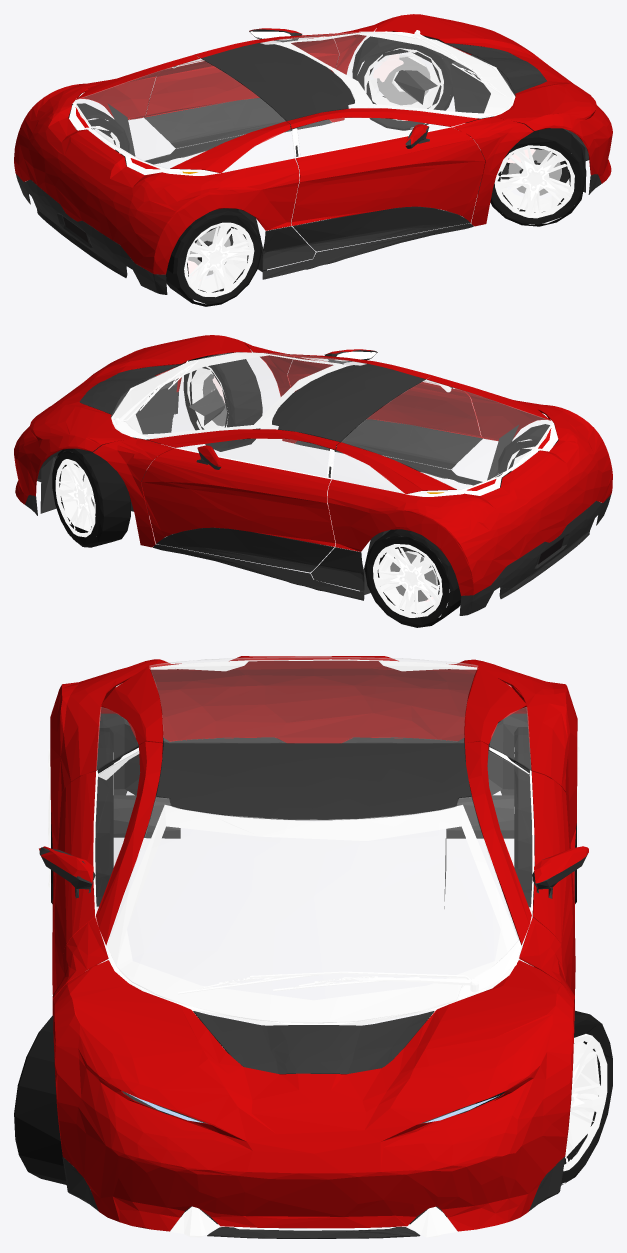
Rendered from concept-lod.glb.
3 renders of one model, top to bottom at view 1: azimuth 30°, elevation 25°; view 2: azimuth 150°, elevation 25°; view 3: azimuth 270°, elevation 25°, orthographic. The views are drawn at different scales.
Parts seen in each view (by area): view 1: object 6, object 2, object 5, WHEEL| (×4), object 3, WHEEL|WheelFrontRRim, object 1, WHEEL|WheelRearRRim, WHEEL|WheelFrontLRim, WHEEL|WheelFrontLBrakeDisc, WHEEL|WheelFrontRBrakeDisc, CALIPER|WheelFrontLBrakePad; view 2: object 6, object 2, object 5, WHEEL| (×4), object 3, object 1, WHEEL|WheelRearLRim, WHEEL|WheelFrontLRim, WHEEL|WheelFrontRRim, WHEEL|WheelRearLBrakeDisc, WHEEL|WheelFrontRBrakeDisc; view 3: object 6, object 2, object 5, object 3, WHEEL| (×4), object 1, WHEEL|WheelFrontLRim.
Boxes of the visible parts, left/top/right/bottom form: object 6: left=14, top=14, right=612, bottom=274; object 2: left=75, top=32, right=511, bottom=171; object 5: left=16, top=29, right=601, bottom=294; WHEEL| (×4): left=68, top=31, right=586, bottom=306; object 3: left=69, top=30, right=515, bottom=175; WHEEL|WheelFrontRRim: left=494, top=145, right=574, bottom=218; object 1: left=107, top=43, right=588, bottom=271; WHEEL|WheelRearRRim: left=184, top=222, right=254, bottom=297; WHEEL|WheelFrontLRim: left=364, top=48, right=443, bottom=120; WHEEL|WheelFrontLBrakeDisc: left=377, top=55, right=430, bottom=105; WHEEL|WheelFrontRBrakeDisc: left=508, top=149, right=561, bottom=195; CALIPER|WheelFrontLBrakePad: left=373, top=53, right=403, bottom=82; object 6: left=14, top=335, right=612, bottom=595; object 2: left=114, top=352, right=551, bottom=492; object 5: left=25, top=350, right=611, bottom=615; WHEEL| (×4): left=52, top=352, right=558, bottom=627; object 3: left=111, top=352, right=558, bottom=496; object 1: left=37, top=362, right=519, bottom=594; WHEEL|WheelRearLRim: left=373, top=544, right=442, bottom=617; WHEEL|WheelFrontLRim: left=55, top=459, right=95, bottom=537; WHEEL|WheelFrontRRim: left=187, top=366, right=228, bottom=429; WHEEL|WheelRearLBrakeDisc: left=390, top=551, right=437, bottom=601; WHEEL|WheelFrontRBrakeDisc: left=202, top=373, right=226, bottom=426; object 6: left=39, top=656, right=588, bottom=1231; object 2: left=95, top=657, right=532, bottom=1022; object 5: left=39, top=737, right=587, bottom=1238; object 3: left=93, top=659, right=534, bottom=1237; WHEEL| (×4): left=14, top=727, right=612, bottom=1185; object 1: left=99, top=713, right=527, bottom=1224; WHEEL|WheelFrontLRim: left=563, top=1034, right=607, bottom=1171.
Size of the model in its own units: 4.65 by 1.23 by 2.71.
